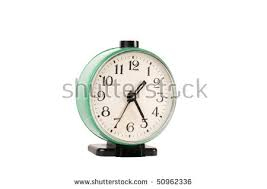alarm_clock: (72, 38, 176, 152), (72, 44, 176, 152)
